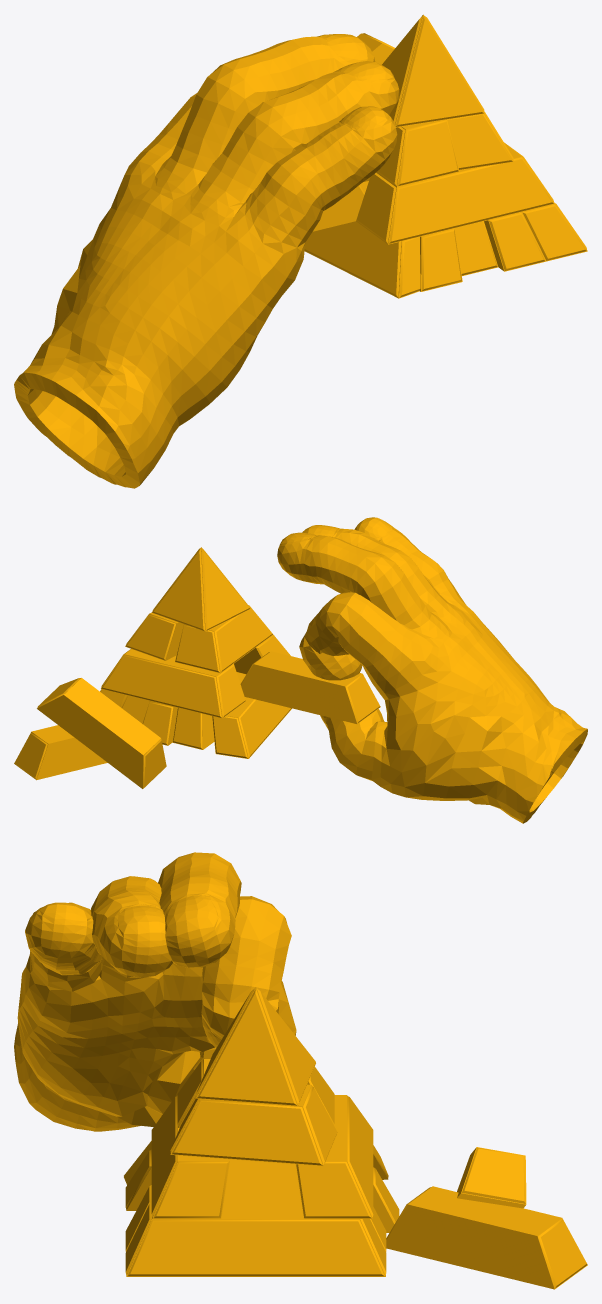
3 renders of one model, top to bottom at view 1: azimuth 30°, elevation 25°; view 2: azimuth 150°, elevation 25°; view 3: azimuth 270°, elevation 25°, orthographic. The views are drawn at different scales.
Visible parts, largest first — view 1: Arms_RIGHT, Cube_7, Pyramid, Cube_4, Cube_8, Cube_9, Cube_1, Cube_2, Cube_3, Cube_2_2, Cube_5_2; view 2: Arms_RIGHT, Cube, Cube_6, Cube_5_2, Pyramid, Cube_8, Cube_4, Cube_5, Cube_9, Cube_2, Cube_2_2, Cube_7 (+1 smaller); view 3: Arms_RIGHT, Cube_3, Cube_5, Cube_9, Pyramid, Cube_6, Cube_7, Cube, Cube_1, Cube_2_2, Cube_8, Cube_2 (+1 smaller).
Part boxes in pixels (bbox=[...]): Arms_RIGHT: bbox=[14, 34, 399, 488]; Cube_7: bbox=[356, 142, 554, 244]; Pyramid: bbox=[382, 14, 484, 127]; Cube_4: bbox=[304, 221, 420, 298]; Cube_8: bbox=[376, 119, 459, 186]; Cube_9: bbox=[447, 112, 513, 170]; Cube_1: bbox=[484, 212, 545, 271]; Cube_2: bbox=[359, 181, 462, 291]; Cube_3: bbox=[522, 202, 587, 261]; Cube_2_2: bbox=[455, 221, 498, 275]; Cube_5_2: bbox=[313, 185, 364, 231]; Arms_RIGHT: bbox=[277, 517, 587, 823]; Cube: bbox=[37, 678, 166, 788]; Cube_6: bbox=[101, 649, 245, 718]; Cube_5_2: bbox=[240, 651, 380, 724]; Pyramid: bbox=[152, 547, 250, 631]; Cube_8: bbox=[175, 605, 273, 673]; Cube_4: bbox=[212, 674, 291, 758]; Cube_5: bbox=[14, 725, 107, 780]; Cube_9: bbox=[125, 612, 183, 660]; Cube_2: bbox=[172, 672, 245, 749]; Cube_2_2: bbox=[142, 701, 177, 745]; Cube_7: bbox=[234, 635, 290, 674]; Arms_RIGHT: bbox=[14, 852, 296, 1131]; Cube_3: bbox=[125, 1201, 386, 1276]; Cube_5: bbox=[386, 1186, 587, 1289]; Cube_9: bbox=[170, 1084, 337, 1166]; Pyramid: bbox=[196, 987, 315, 1106]; Cube_6: bbox=[295, 1095, 373, 1218]; Cube_7: bbox=[151, 1096, 229, 1218]; Cube: bbox=[457, 1147, 526, 1208]; Cube_1: bbox=[125, 1184, 386, 1251]; Cube_2_2: bbox=[226, 1166, 399, 1232]; Cube_8: bbox=[177, 1059, 334, 1127]; Cube_2: bbox=[125, 1149, 295, 1210].
Bounding box in the file's own units: 536 × 320 × 442.
